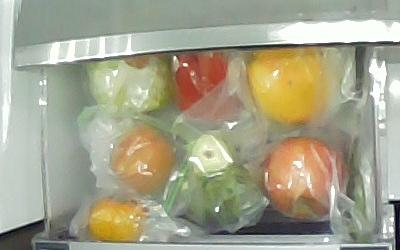apple_vinyl: (261, 136, 344, 222)
broccoli_vinyl: (185, 130, 259, 232)
grapefruit_vinyl: (248, 47, 330, 126)
lettuce_vinyl: (86, 54, 171, 116)
paprika_vinyl: (175, 53, 241, 125)
peach_vinyl: (111, 125, 175, 195)
persimmon_vinyl: (88, 196, 145, 241)
